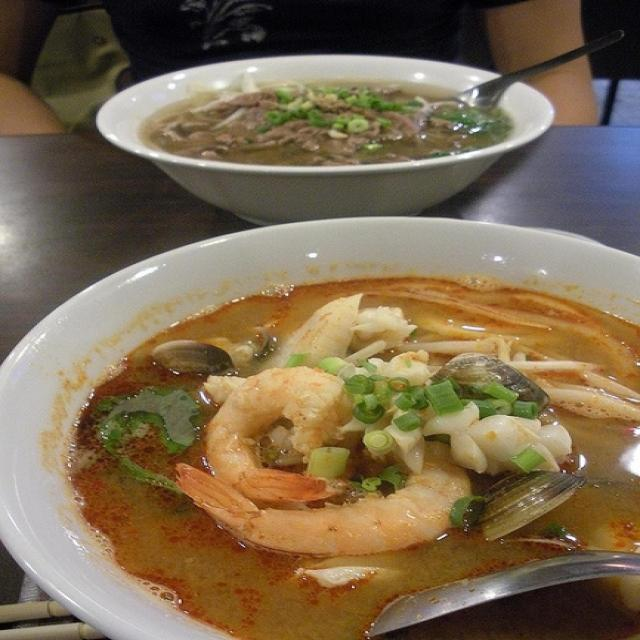面条主食: (27, 194, 636, 618)
